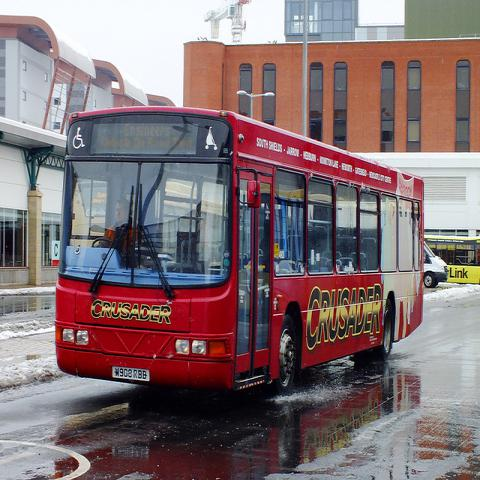bus: (55, 107, 426, 392)
truck: (424, 242, 448, 288)
